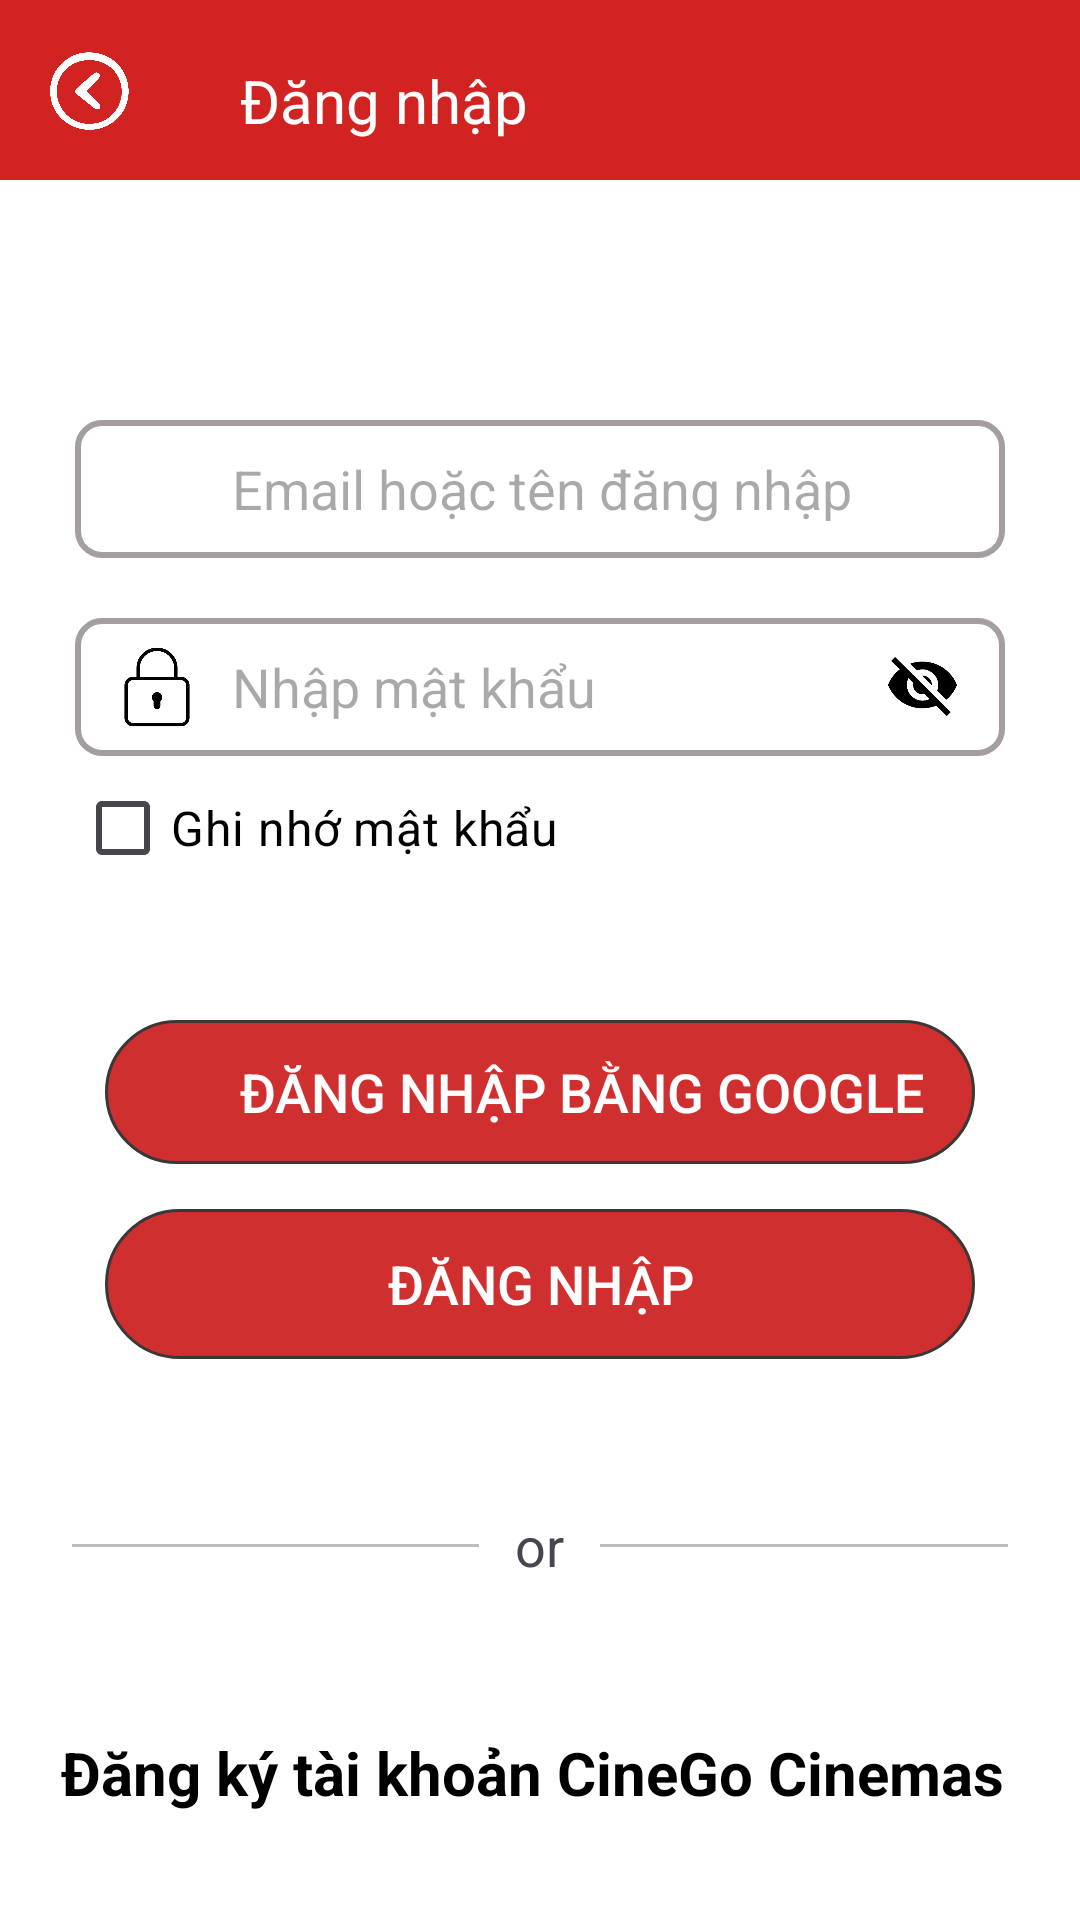

Screen size 1080w x 1920h. Icon name, then its center in pixels as (x=x, y=y):
anmk: (x=922, y=686)
matkhau: (x=157, y=687)
